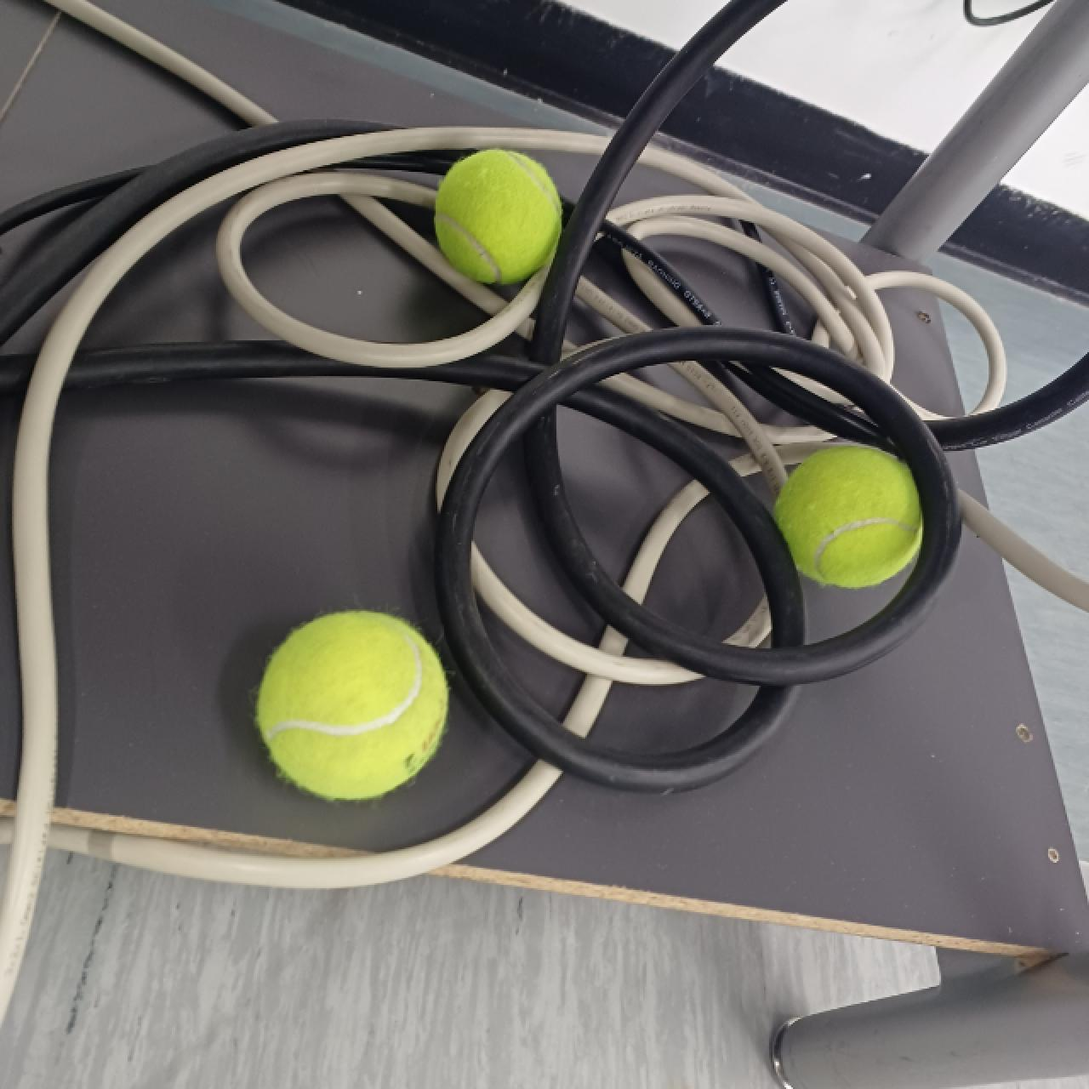tennis-ball: (257, 607, 452, 801), (774, 439, 937, 590), (434, 145, 563, 282)
